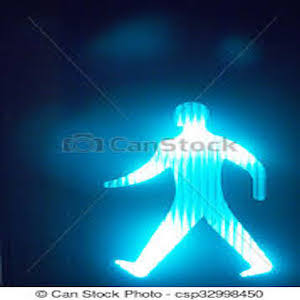green: (106, 96, 281, 278)
